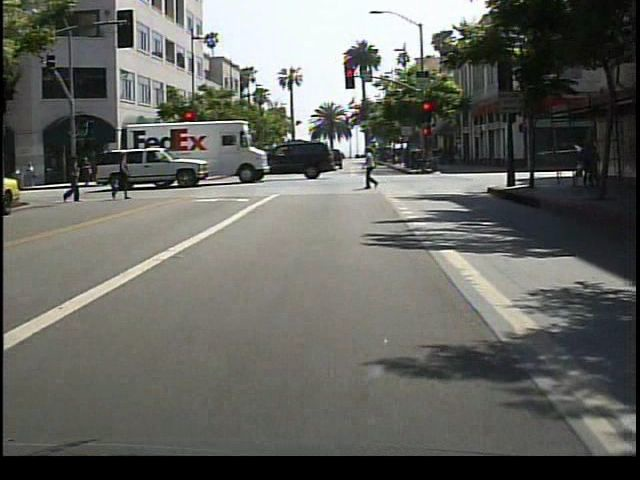person: (574, 136, 603, 196), (109, 151, 135, 204), (360, 145, 385, 193), (64, 158, 86, 206)
